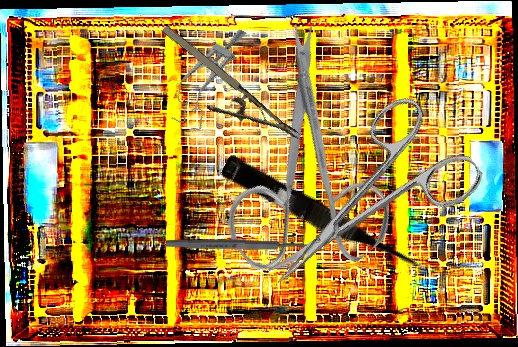Iris Scissors: (150, 16, 448, 316), (232, 83, 490, 323)
Micro Scissor: (216, 153, 428, 285)
Needle Holder: (143, 21, 302, 167)
Speculum: (162, 16, 254, 135)
Surgical Spoon: (165, 238, 326, 252)
